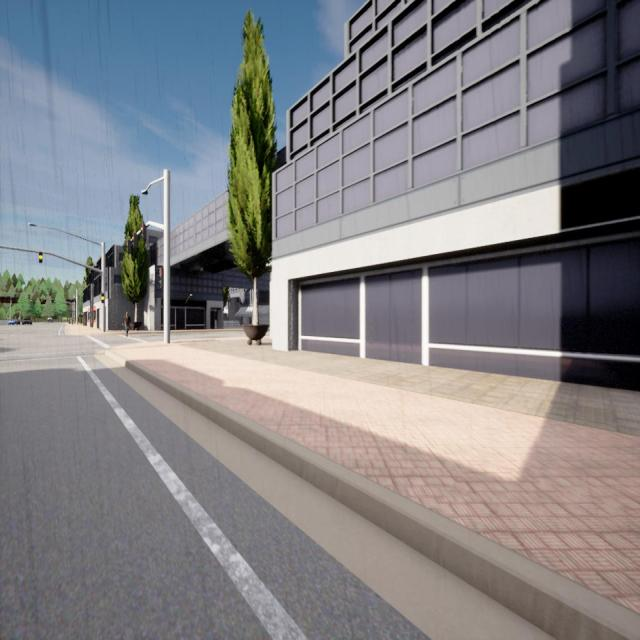Pedestrian: (123, 311, 132, 337)
Vehicle: (22, 318, 32, 325), (8, 320, 15, 325), (15, 320, 20, 325), (48, 317, 52, 323)
traffic_light: (158, 266, 164, 288), (143, 224, 147, 241), (134, 234, 138, 248), (128, 240, 131, 253), (39, 252, 42, 263), (102, 293, 105, 303), (54, 300, 56, 304), (14, 294, 16, 298), (30, 300, 32, 302), (28, 295, 29, 298), (42, 299, 42, 303)
